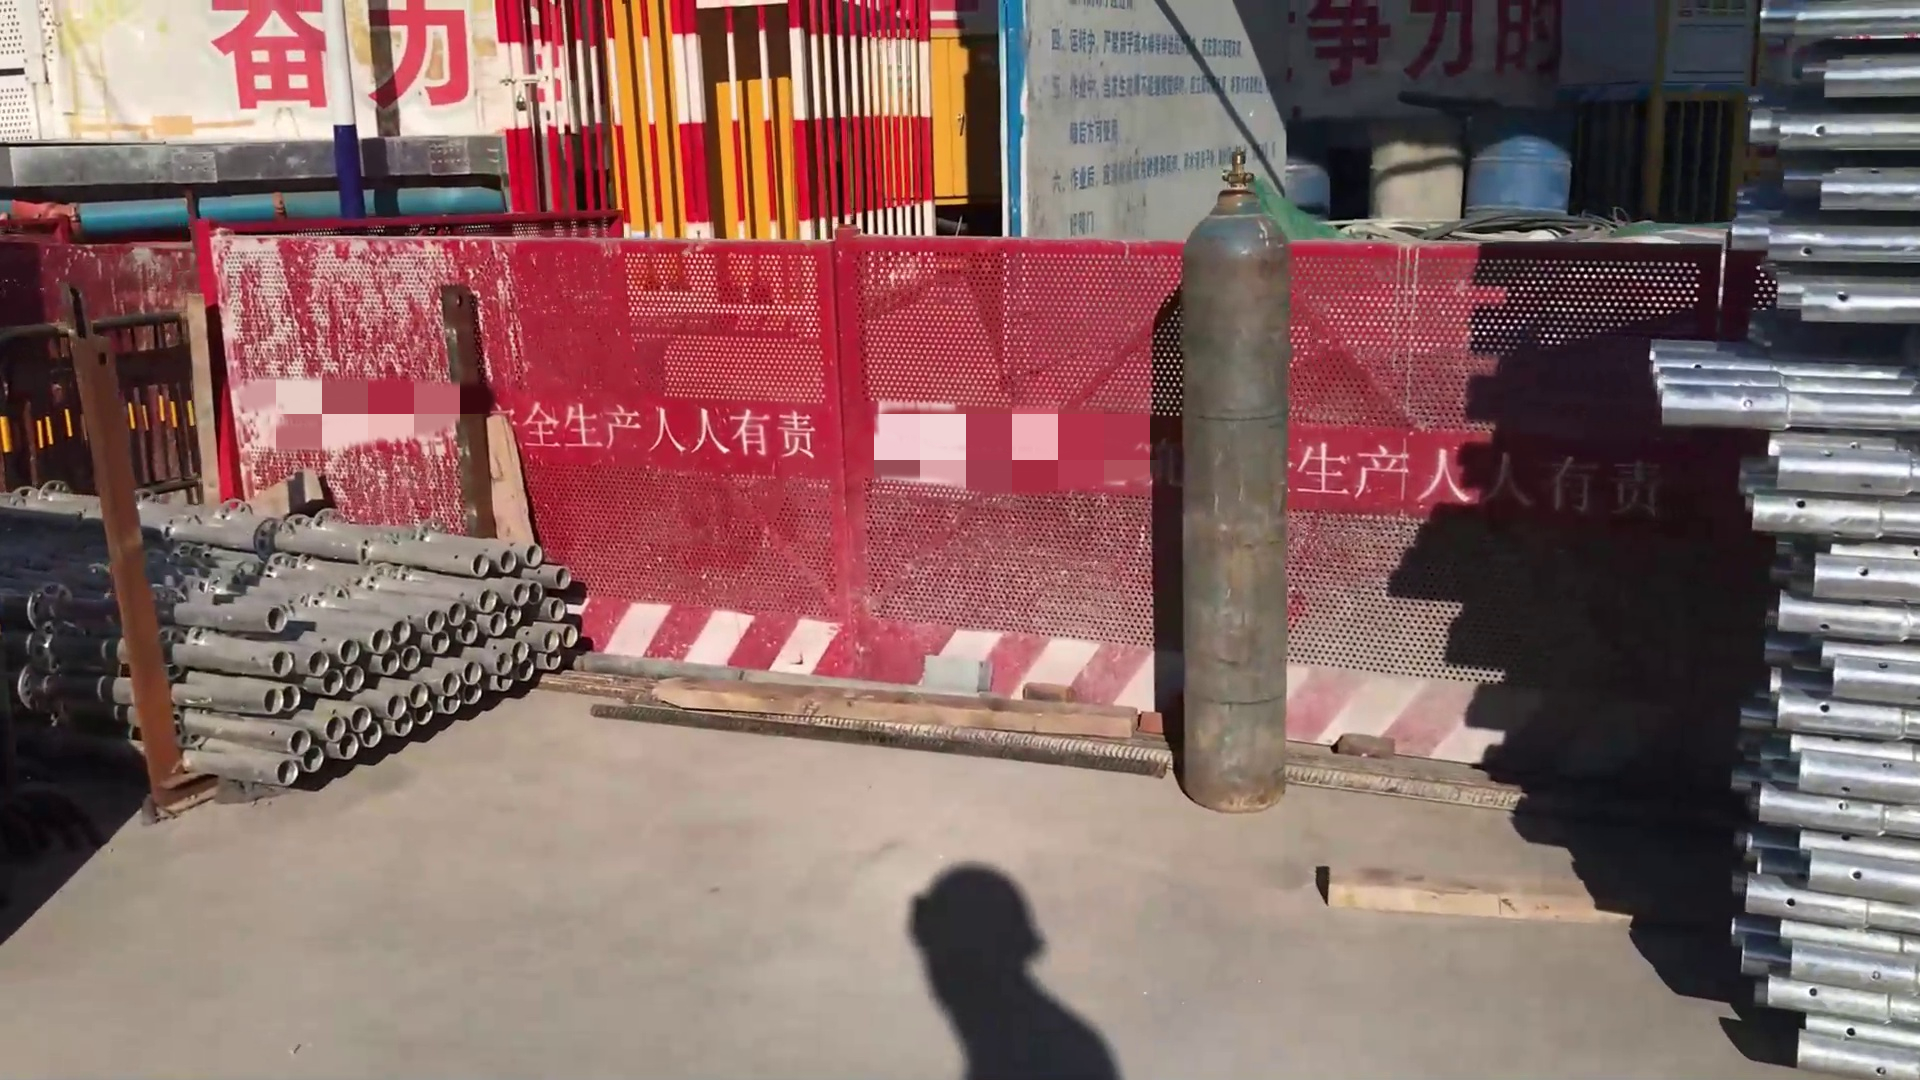fence: (212, 233, 1166, 771), (1294, 229, 1697, 795), (512, 7, 961, 237), (5, 319, 204, 488)
scaffold: (1693, 30, 1919, 1080), (1, 491, 588, 795)
